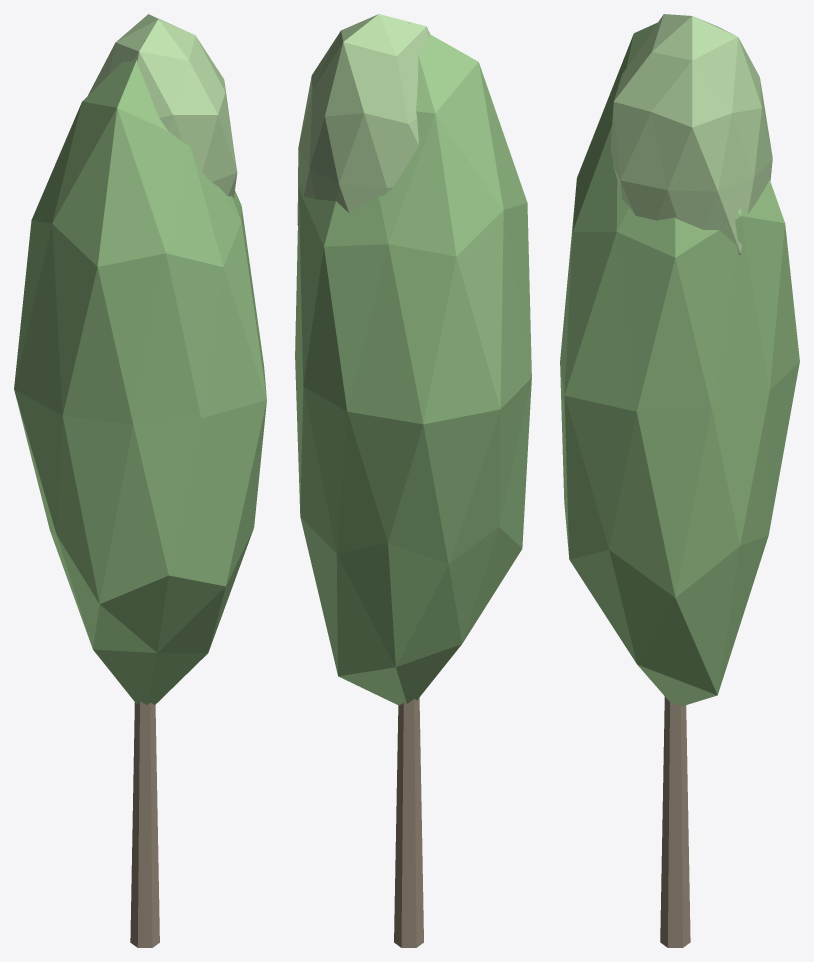
The model's file is tree-tall.glb.
3 views of the same model, side by side, from view 1: azimuth 30°, elevation 25°; view 2: azimuth 150°, elevation 25°; view 3: azimuth 270°, elevation 25° (orthographic). The views are drawn at different scales.
Parts seen in each view (by area): view 1: tree-tall; view 2: tree-tall; view 3: tree-tall.
Part boxes in pixels (x1,y1,x2,y2): tree-tall: [14, 14, 266, 947]; tree-tall: [295, 14, 531, 947]; tree-tall: [560, 14, 799, 947].
Bounding box in the file's own units: 2.96 × 12.26 × 2.85.
